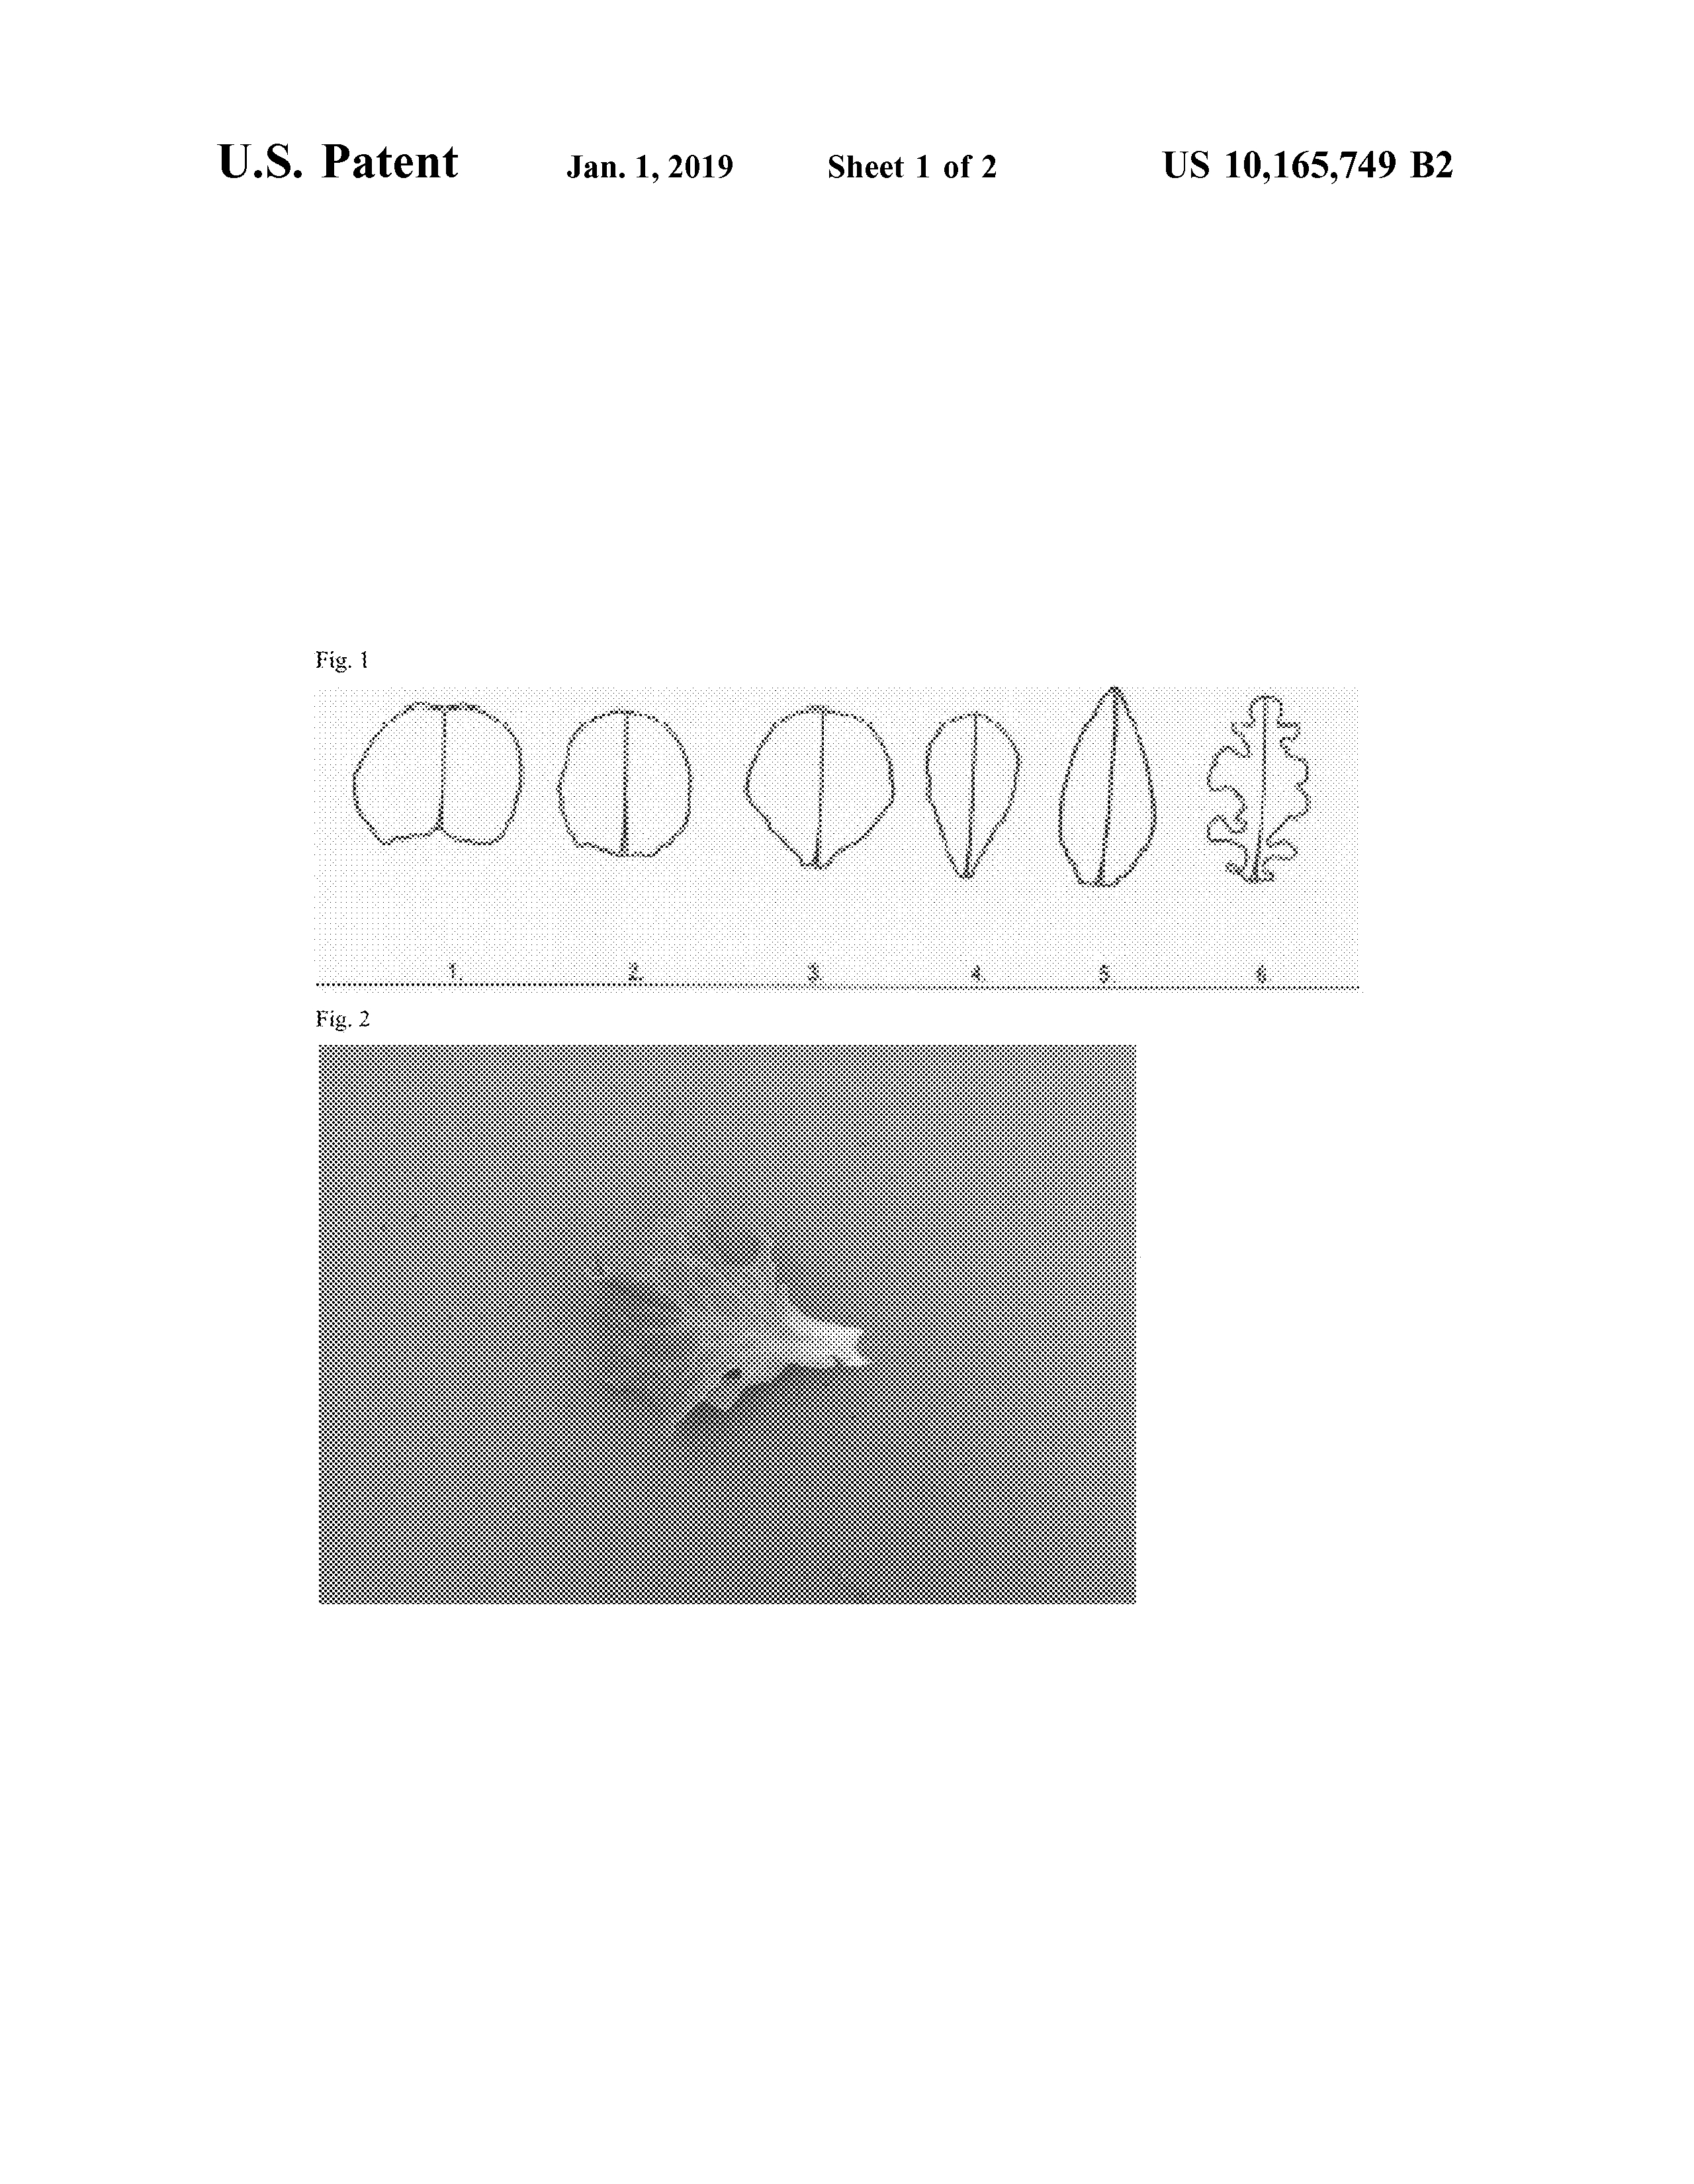patent image: (297, 1001, 1201, 1660), (269, 615, 1408, 998)
